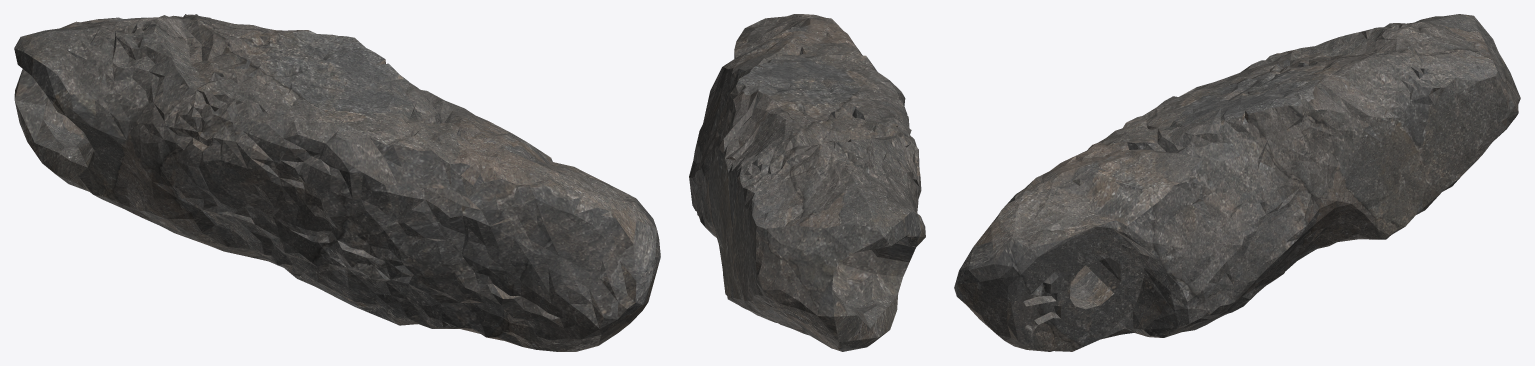
Rendered from rocky_brazo_izquierdo.obj.
The picture shows the model from 3 angles, left to right: view 1: azimuth 30°, elevation 25°; view 2: azimuth 150°, elevation 25°; view 3: azimuth 270°, elevation 25°; orthographic projection. The views are drawn at different scales.
Size of the model in its own units: 0.2644 by 0.162 by 0.3648.
Materials: 1 (1 with a texture image).
